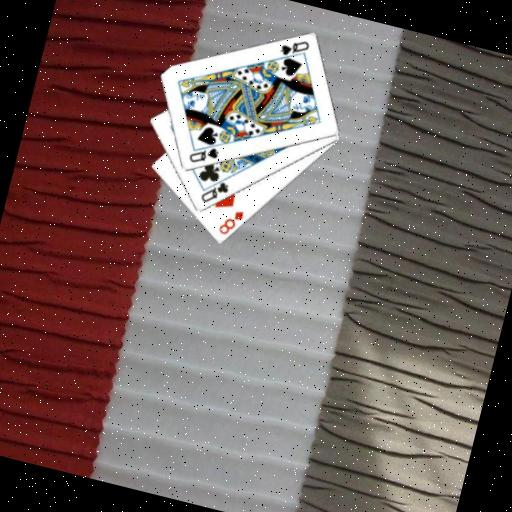8D: (215, 204, 247, 241)
QC: (197, 174, 233, 209)
QS: (185, 140, 222, 171), (276, 33, 312, 63)
